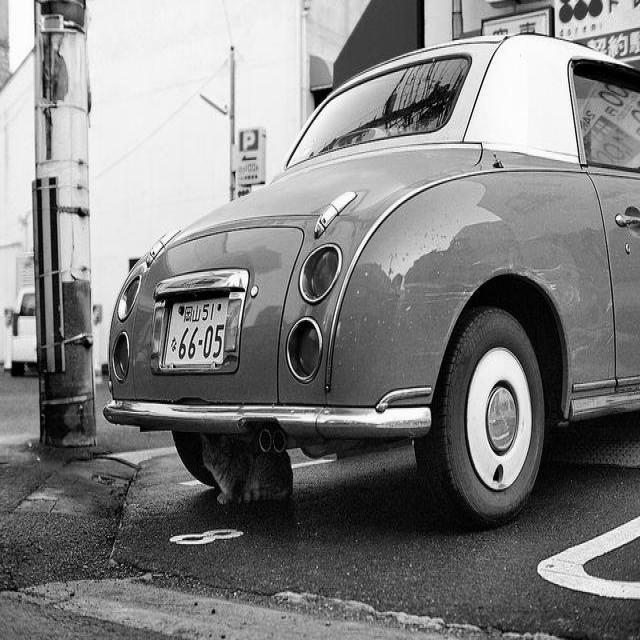vehicle: (102, 34, 640, 529), (3, 290, 37, 377)
